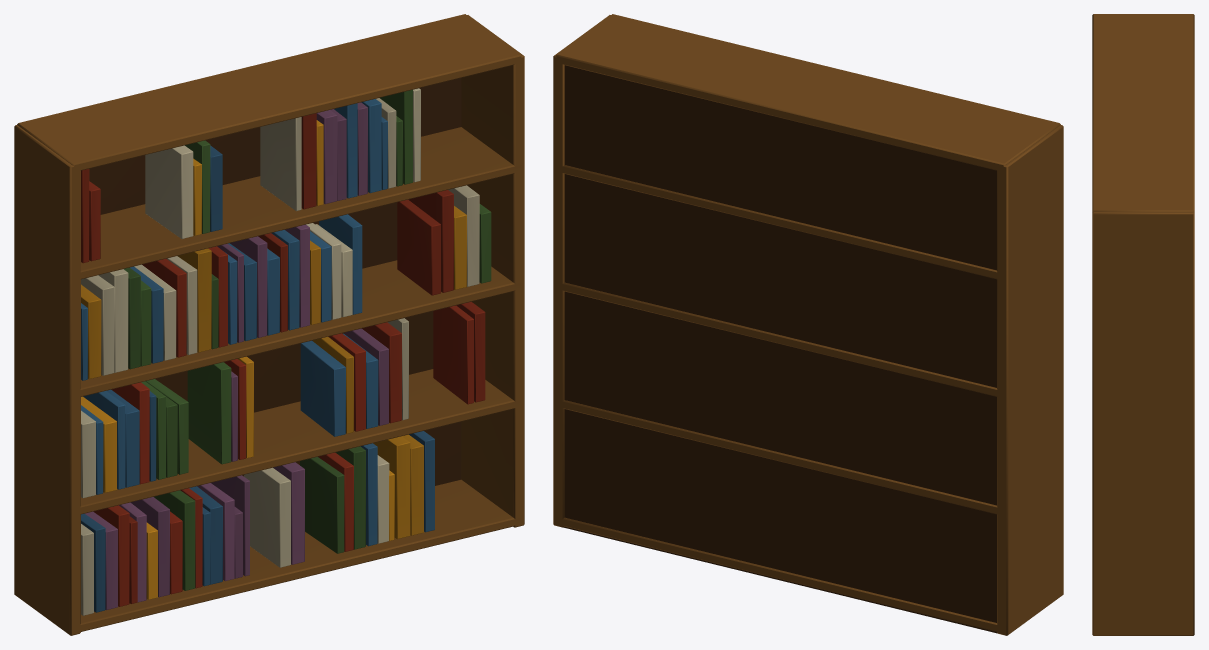
The model's file is school-bookshelf.glb.
3 renders of one model, left to right at view 1: azimuth 30°, elevation 25°; view 2: azimuth 150°, elevation 25°; view 3: azimuth 270°, elevation 25°, orthographic. The views are drawn at different scales.
Visible parts, largest first — view 1: shelf__wood, books__paper; view 2: shelf__wood; view 3: shelf__wood.
Part boxes in pixels (<box>): shelf__wood: <box>14,14,524,635</box>; books__paper: <box>81,88,491,615</box>; shelf__wood: <box>553,14,1063,635</box>; shelf__wood: <box>1092,14,1194,635</box>.
Size of the model in its own units: 1.62 by 1.61 by 0.35.
